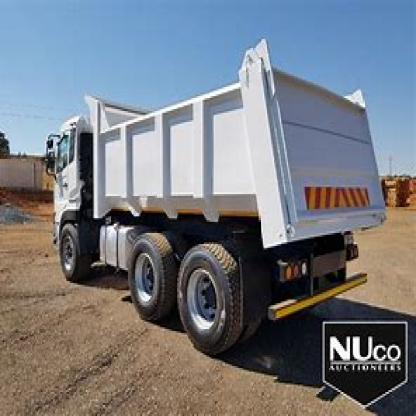dump_truck: (39, 46, 384, 357)
